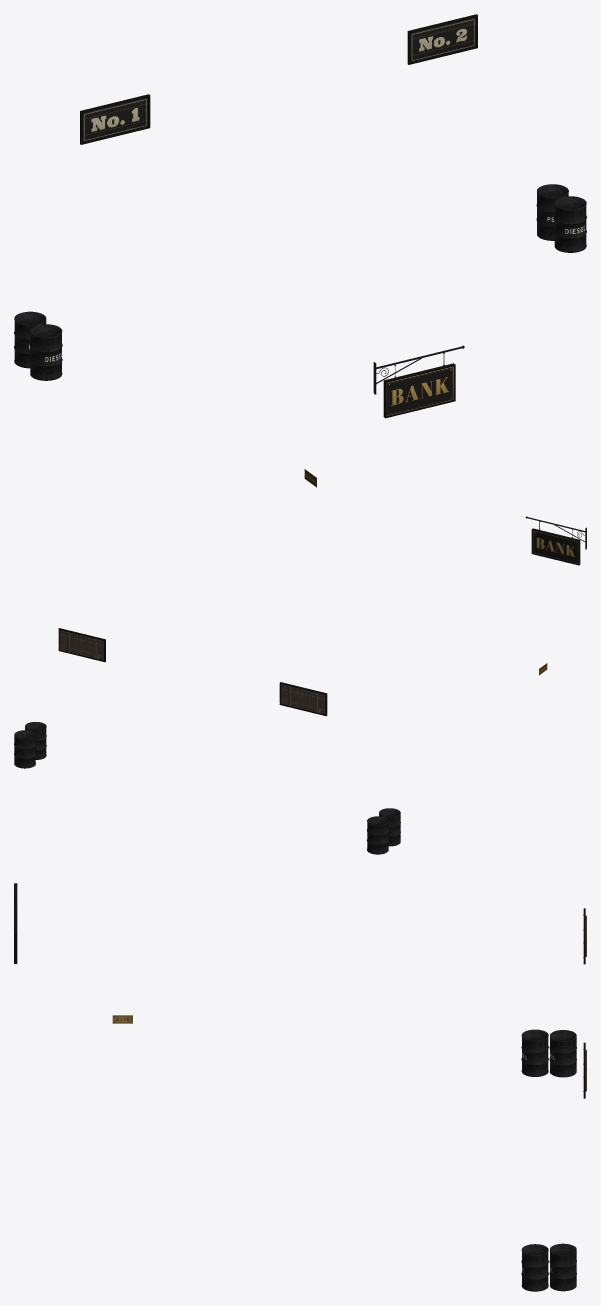
File: works-signs.glb
The picture shows the model from 3 angles, top to bottom: view 1: azimuth 30°, elevation 25°; view 2: azimuth 150°, elevation 25°; view 3: azimuth 270°, elevation 25°; orthographic projection. The views are drawn at different scales.
Parts seen in each view (by area): view 1: bank-sign-board, gate-board-no-1-body, gate-board-no-2-body, steel-drum-diesel-body.001, steel-drum-diesel-body, steel-drum-petrol-body.001, steel-drum-petrol-body; view 2: bank-sign-board, gate-board-no-1-body, gate-board-no-2-body, steel-drum-petrol-body.001, steel-drum-petrol-body, steel-drum-diesel-body, steel-drum-diesel-body.001; view 3: steel-drum-diesel-body.001, steel-drum-diesel-body, steel-drum-petrol-body.001, steel-drum-petrol-body.
Boxes of the visible parts, left/top/right/bottom form: bank-sign-board: left=383, top=363, right=455, bottom=418; gate-board-no-1-body: left=80, top=94, right=150, bottom=144; gate-board-no-2-body: left=407, top=14, right=477, bottom=64; steel-drum-diesel-body.001: left=554, top=196, right=586, bottom=252; steel-drum-diesel-body: left=30, top=324, right=62, bottom=380; steel-drum-petrol-body.001: left=536, top=184, right=568, bottom=240; steel-drum-petrol-body: left=14, top=311, right=46, bottom=368; bank-sign-board: left=531, top=528, right=580, bottom=565; gate-board-no-1-body: left=279, top=682, right=327, bottom=716; gate-board-no-2-body: left=58, top=628, right=105, bottom=662; steel-drum-petrol-body.001: left=14, top=730, right=35, bottom=768; steel-drum-petrol-body: left=367, top=816, right=388, bottom=854; steel-drum-diesel-body: left=379, top=808, right=400, bottom=846; steel-drum-diesel-body.001: left=25, top=722, right=46, bottom=759; steel-drum-diesel-body.001: left=521, top=1244, right=548, bottom=1291; steel-drum-diesel-body: left=521, top=1029, right=548, bottom=1076; steel-drum-petrol-body.001: left=549, top=1243, right=576, bottom=1291; steel-drum-petrol-body: left=549, top=1030, right=576, bottom=1077.
Bounding box in the file's own units: 11.81 × 4.76 × 12.64.
11 materials, 11 textured.
